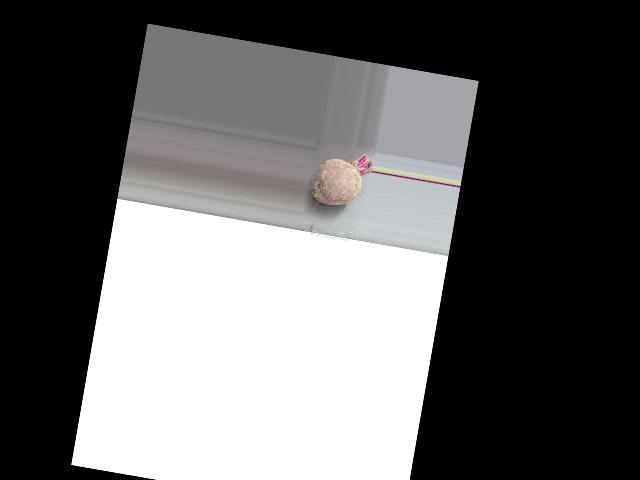beet: (310, 146, 374, 210)
